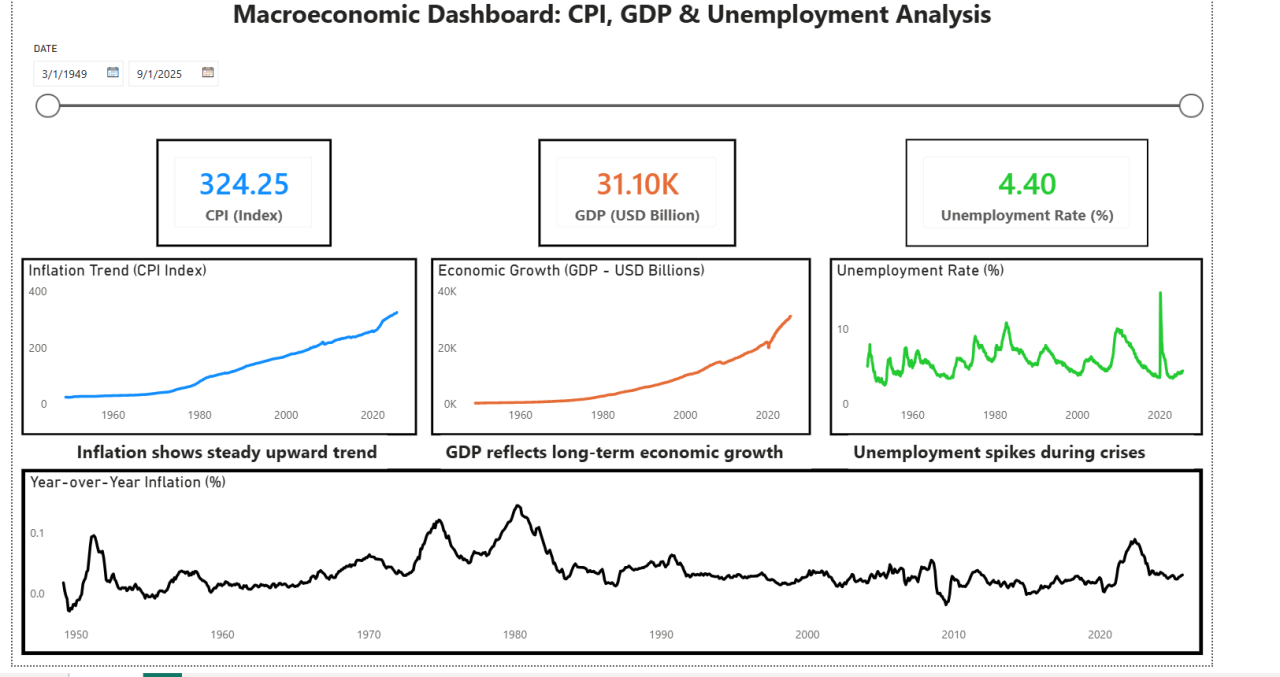

Layout of this report page (visuals, bound fields, positions):
{"tool":"powerbi","page":{"name":"Page 1","canvas":[1280,720],"ordinal":0},"visuals":[{"type":"cardVisual","fields":{"Data":["final_macro_data.Latest CPI"]},"box":[153.7,157.3,187.3,115.3],"z":0},{"type":"cardVisual","fields":{"Data":["final_macro_data.Latest GDP"]},"box":[562,157.3,211.3,115.3],"z":1000},{"type":"cardVisual","fields":{"Data":["final_macro_data.Latest Unemployment"]},"box":[953.4,157.3,259.4,115.3],"z":2000},{"type":"lineChart","title":"Economic Growth (GDP - USD Billions)","fields":{"Y":["Avg(final_macro_data.GDP)"],"Category":["final_macro_data.DATE"]},"box":[446.7,284.6,405.9,189.7],"z":3000},{"type":"lineChart","title":"Unemployment Rate (%)","fields":{"Category":["final_macro_data.DATE"],"Y":["Avg(final_macro_data.UNEMPLOYMENT)"]},"box":[872.9,284.6,398.6,189.7],"z":4000},{"type":"lineChart","title":"Year-over-Year Inflation (%)","fields":{"Y":["Avg(final_macro_data.inflation_yoy)"],"Category":["final_macro_data.DATE.Variation.Date Hierarchy.Year","final_macro_data.DATE.Variation.Date Hierarchy.Quarter","final_macro_data.DATE.Variation.Date Hierarchy.Month","final_macro_data.DATE.Variation.Date Hierarchy.Day"]},"box":[9.6,510.3,1262,199.3],"z":5000},{"type":"lineChart","title":"Inflation Trend (CPI Index)","fields":{"Y":["Avg(final_macro_data.CPI)"],"Category":["final_macro_data.DATE"]},"box":[9.6,284.6,422.7,189.7],"z":6000},{"type":"slicer","fields":{"Values":["final_macro_data.DATE"]},"box":[9.6,49.2,1270.4,99.7],"z":7000},{"type":"textbox","box":[0,0,1280,49.2],"z":8000},{"type":"textbox","box":[9.6,474.3,390.2,36],"z":8001},{"type":"textbox","box":[457.5,474.3,395,36],"z":8002},{"type":"textbox","box":[892.2,474.3,368.6,36],"z":8003}]}

Visuals, with their boxes in screenshot pixels (x1, y1, x2, y2):
cardVisual - final_macro_data.Latest CPI: 159/139/333/246
cardVisual - final_macro_data.Latest GDP: 538/139/733/246
cardVisual - final_macro_data.Latest Unemployment: 900/139/1141/246
"Economic Growth (GDP - USD Billions)" lineChart: 431/257/807/433
"Unemployment Rate (%)" lineChart: 826/257/1195/433
"Year-over-Year Inflation (%)" lineChart: 26/466/1195/651
"Inflation Trend (CPI Index)" lineChart: 26/257/417/433
slicer - final_macro_data.DATE: 26/39/1203/131
textbox: 17/0/1203/39
textbox: 26/433/387/466
textbox: 441/433/807/466
textbox: 844/433/1185/466
